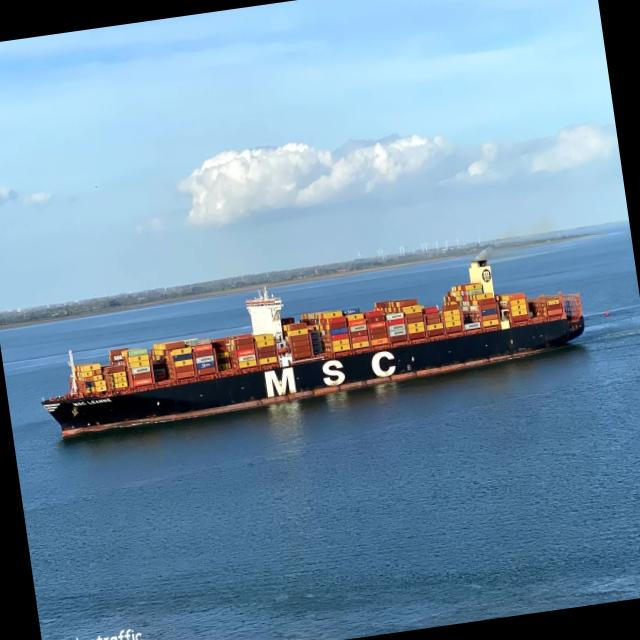Cargo: (42, 258, 584, 436)
